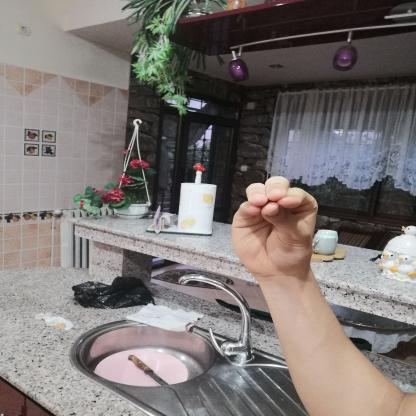HA: (217, 166, 334, 287)
